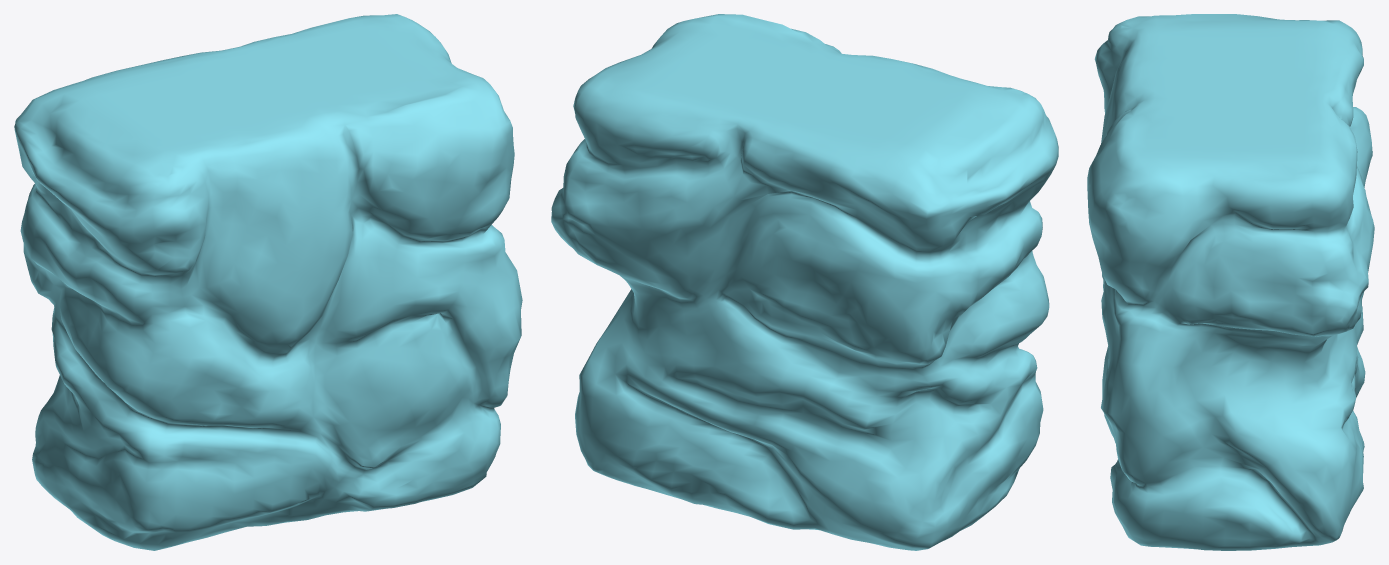
File: Rock15.fbx
The picture shows the model from 3 angles, left to right: view 1: azimuth 30°, elevation 25°; view 2: azimuth 150°, elevation 25°; view 3: azimuth 270°, elevation 25°; orthographic projection. The views are drawn at different scales.
Visible parts, largest first — view 1: PM3D_Cube3D_1; view 2: PM3D_Cube3D_1; view 3: PM3D_Cube3D_1.
Part boxes in pixels (<box>): PM3D_Cube3D_1: <box>14,14,522,550</box>; PM3D_Cube3D_1: <box>551,14,1058,550</box>; PM3D_Cube3D_1: <box>1087,14,1374,550</box>.
Size of the model in its own units: 5.26 by 4.81 by 3.25.
